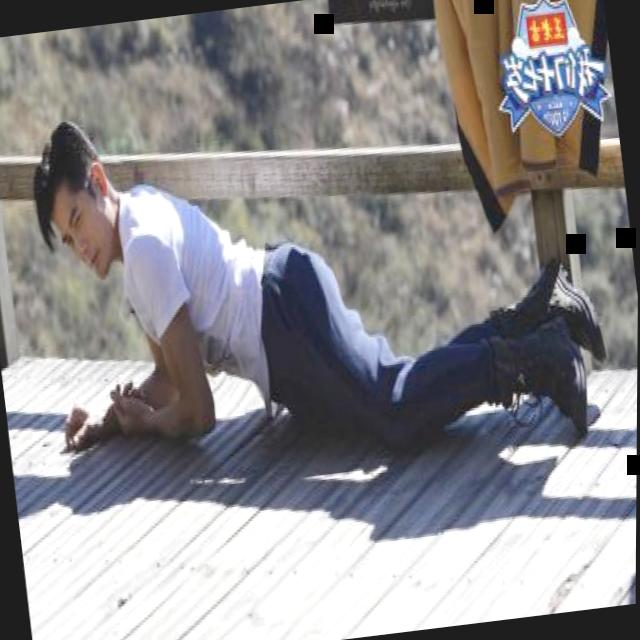Fall-Detected: (0, 31, 620, 508)
